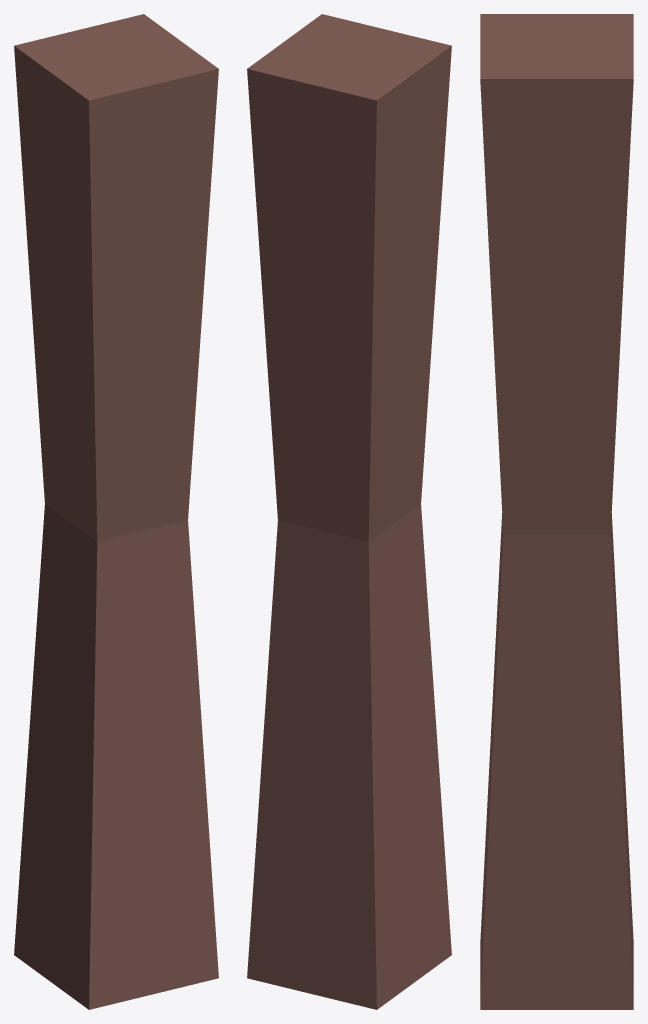
Rendered from BridgeSectionWood.fbx.
The picture shows the model from 3 angles, left to right: view 1: azimuth 30°, elevation 25°; view 2: azimuth 150°, elevation 25°; view 3: azimuth 270°, elevation 25°; orthographic projection. The views are drawn at different scales.
Visible parts, largest first — view 1: pCube19; view 2: pCube19; view 3: pCube19.
Boxes of the visible parts, x1,y1,x2,y2 form: pCube19: (14,14,218,1009); pCube19: (247,14,451,1009); pCube19: (480,14,633,1009).
Bounding box in the file's own units: 42.15 × 282 × 42.15.
